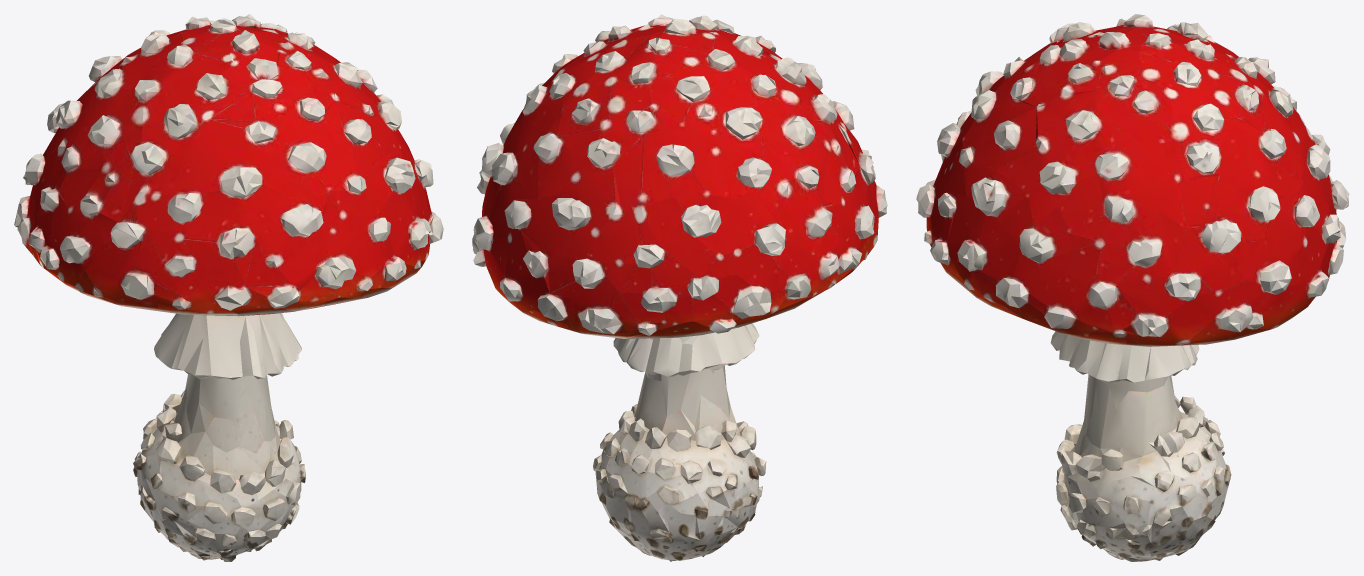
The model's file is sinek.glb.
3 views of the same model, side by side, from view 1: azimuth 30°, elevation 25°; view 2: azimuth 150°, elevation 25°; view 3: azimuth 270°, elevation 25° (orthographic). The views are drawn at different scales.
Parts seen in each view (by area): view 1: output_unwrapped; view 2: output_unwrapped; view 3: output_unwrapped.
Part boxes in pixels (box(x1,y1,x2,y2)): output_unwrapped: box(14, 14, 443, 561); output_unwrapped: box(472, 14, 887, 561); output_unwrapped: box(916, 14, 1349, 561).
Size of the model in its own units: 1.38 by 1.9 by 1.41.
1 material, 1 textured.
